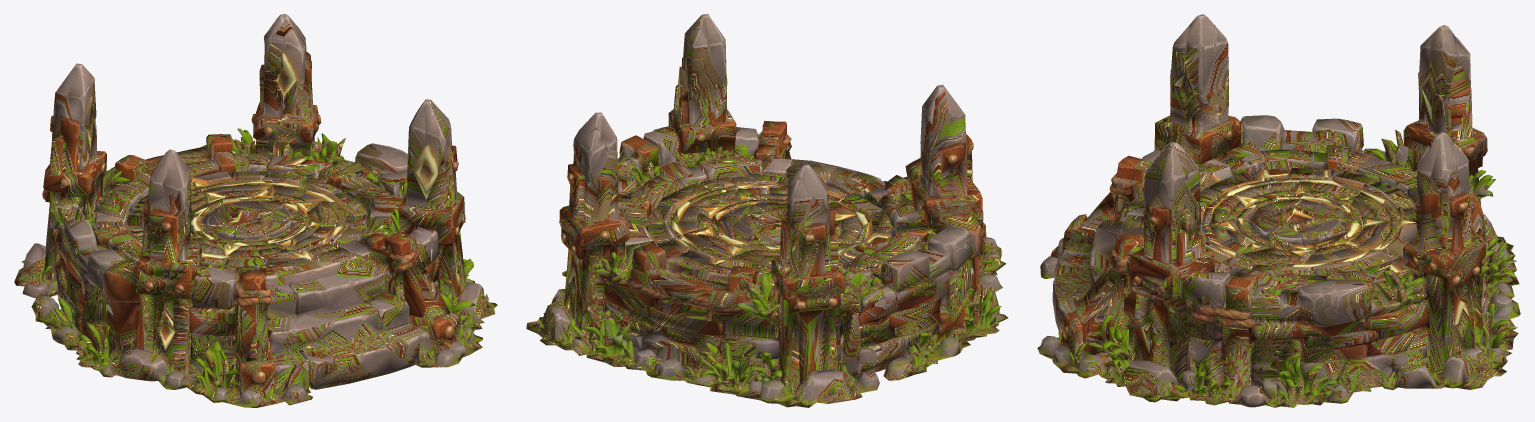
The model's file is Runestone_Altar.glb.
The picture shows the model from 3 angles, left to right: view 1: azimuth 30°, elevation 25°; view 2: azimuth 150°, elevation 25°; view 3: azimuth 270°, elevation 25°; orthographic projection. The views are drawn at different scales.
Visible parts, largest first — view 1: Runestone_Altar; view 2: Runestone_Altar; view 3: Runestone_Altar.
Boxes of the visible parts, x1=… form: Runestone_Altar: x1=14, y1=14, x2=497, y2=407; Runestone_Altar: x1=526, y1=14, x2=1007, y2=407; Runestone_Altar: x1=1037, y1=14, x2=1520, y2=407.
Bounding box in the file's own units: 1.88 × 0.974 × 1.87.
Materials: 1 (1 with a texture image).
